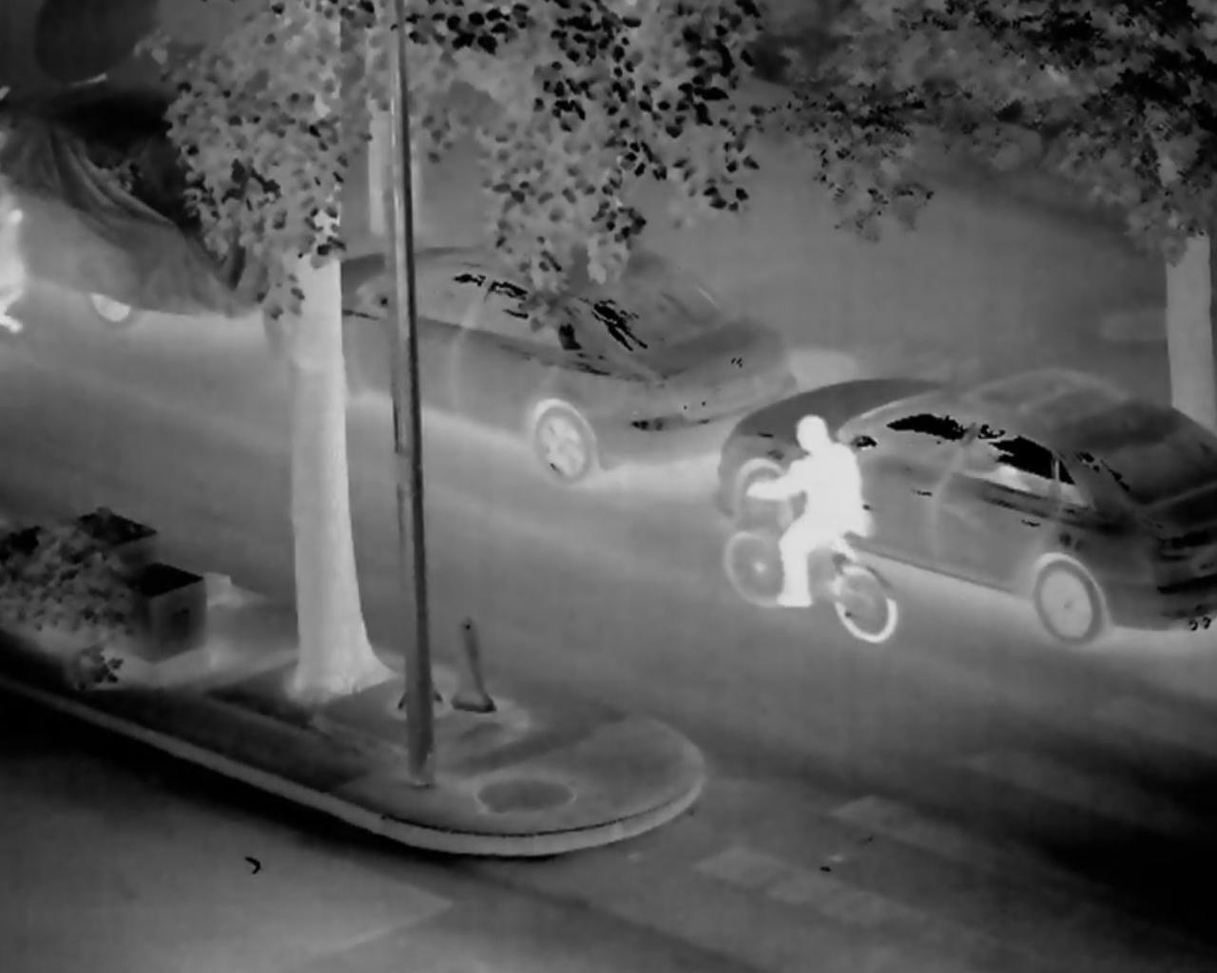person: (725, 405, 875, 631)
